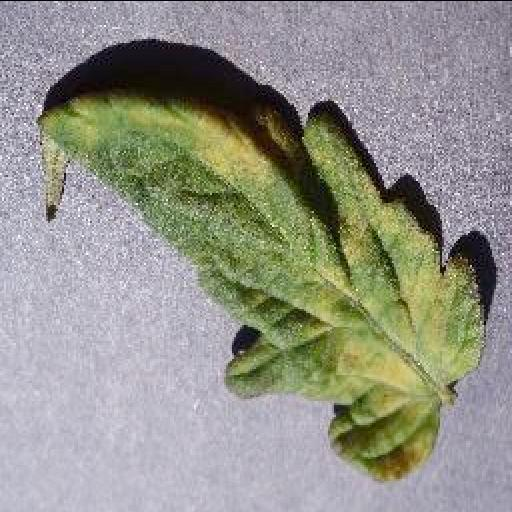disease_tomato: (34, 88, 484, 482)
